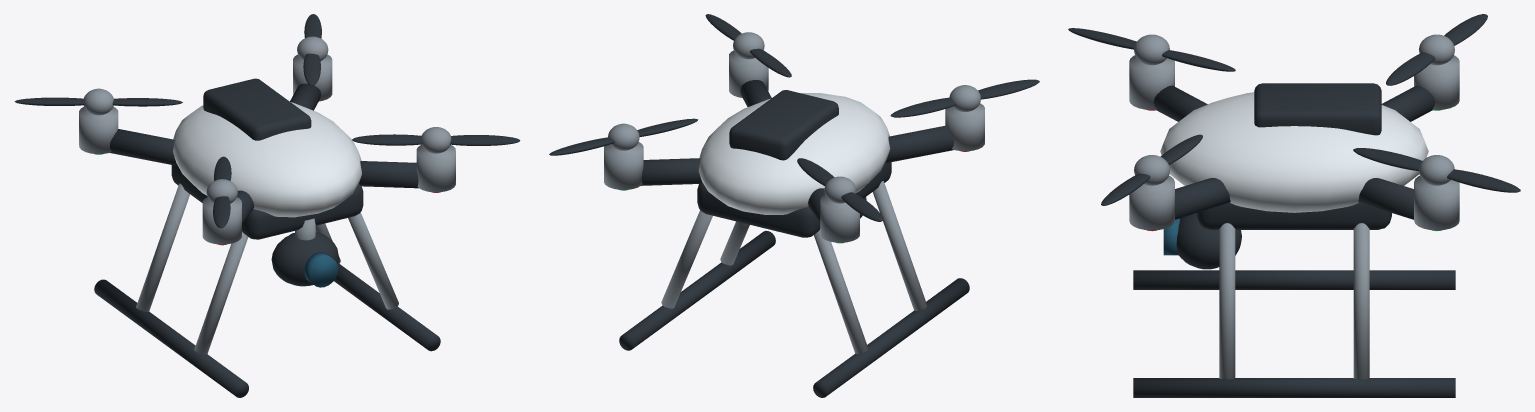
Rendered from quadcopter.glb.
The picture shows the model from 3 angles, left to right: view 1: azimuth 30°, elevation 25°; view 2: azimuth 150°, elevation 25°; view 3: azimuth 270°, elevation 25°; orthographic projection. The views are drawn at different scales.
Parts seen in each view (by area): view 1: Upper_shell, Battery, Landing_skid, Lower_chassis, Landing_skid.001, Camera_gimbal, Landing_strut.001, Landing_strut, Arm_01, Motor_03, Motor_01, Arm_03 (+13 smaller); view 2: Upper_shell, Battery, Landing_skid, Landing_skid.001, Lower_chassis, Landing_strut, Landing_strut.001, Arm_02, Motor_00, Arm_00, Motor_01, Motor_02 (+12 smaller); view 3: Upper_shell, Landing_skid.001, Battery, Landing_skid, Lower_chassis, Landing_strut.002, Landing_strut.003, Motor_00, Motor_03, Camera_gimbal, Motor_02, Rotor_00 (+13 smaller).
Boxes of the visible parts, x1,y1,x2,y2 form: Upper_shell: [173, 102, 361, 217]; Battery: [203, 78, 311, 140]; Landing_skid: [94, 279, 248, 397]; Lower_chassis: [171, 165, 363, 239]; Landing_skid.001: [290, 233, 440, 351]; Camera_gimbal: [271, 232, 338, 286]; Landing_strut.001: [136, 183, 189, 311]; Landing_strut: [194, 231, 248, 354]; Arm_01: [110, 129, 177, 165]; Motor_03: [416, 145, 455, 192]; Motor_01: [79, 106, 118, 154]; Arm_03: [359, 161, 418, 188]; Upper_shell: [698, 93, 890, 214]; Battery: [729, 90, 838, 160]; Landing_skid: [813, 278, 969, 397]; Landing_skid.001: [619, 231, 775, 350]; Lower_chassis: [697, 162, 891, 237]; Landing_strut: [873, 181, 927, 310]; Landing_strut.001: [814, 229, 868, 353]; Arm_02: [885, 126, 953, 163]; Motor_00: [604, 142, 643, 189]; Arm_00: [641, 158, 701, 185]; Motor_01: [820, 195, 859, 242]; Motor_02: [945, 103, 984, 151]; Upper_shell: [1160, 92, 1428, 212]; Landing_skid.001: [1133, 378, 1455, 397]; Battery: [1254, 83, 1381, 135]; Landing_skid: [1133, 270, 1455, 289]; Lower_chassis: [1197, 203, 1391, 229]; Landing_strut.002: [1219, 223, 1235, 379]; Landing_strut.003: [1353, 223, 1369, 379]; Motor_00: [1414, 175, 1459, 230]; Motor_03: [1129, 175, 1174, 230]; Camera_gimbal: [1176, 213, 1241, 269]; Motor_02: [1129, 55, 1174, 109]; Rotor_00: [1353, 148, 1520, 192].
Size of the model in its own units: 0.6737 by 0.405 by 0.6737.
